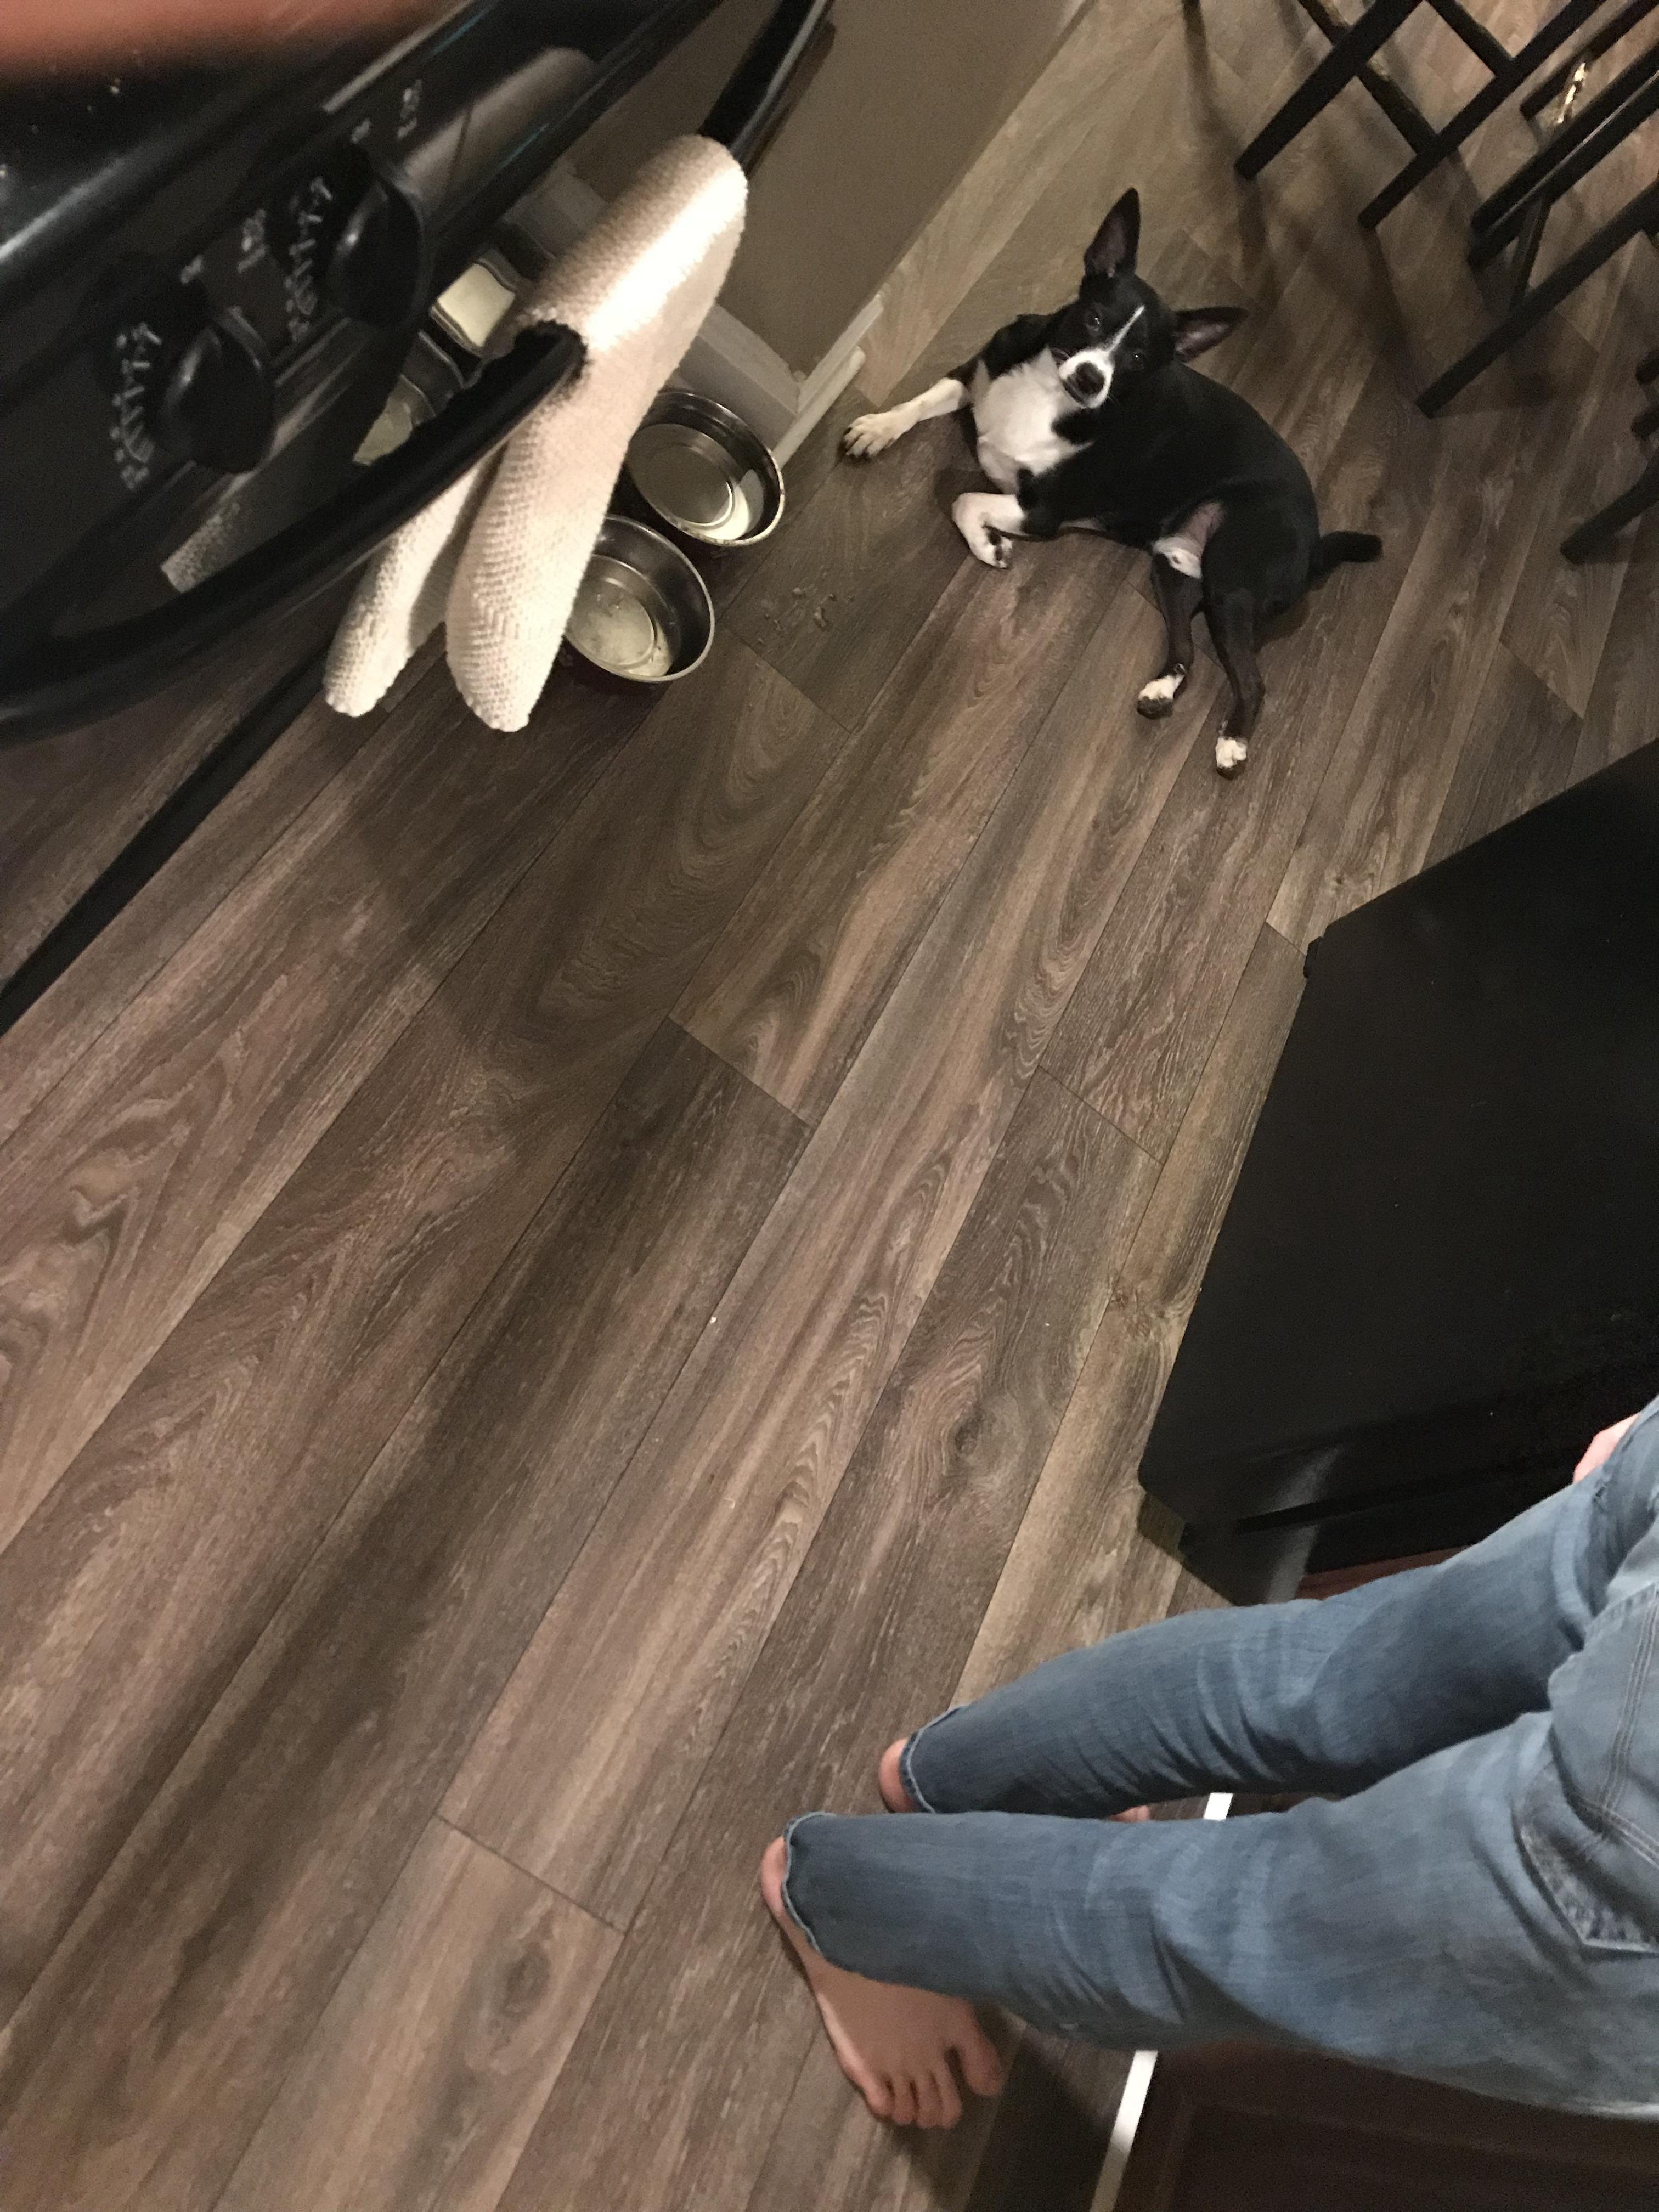Harley: (800, 157, 1443, 789)
